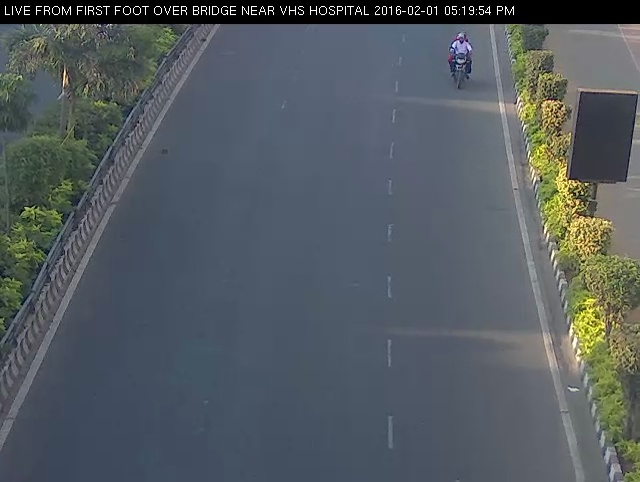Person: (440, 30, 481, 91)
